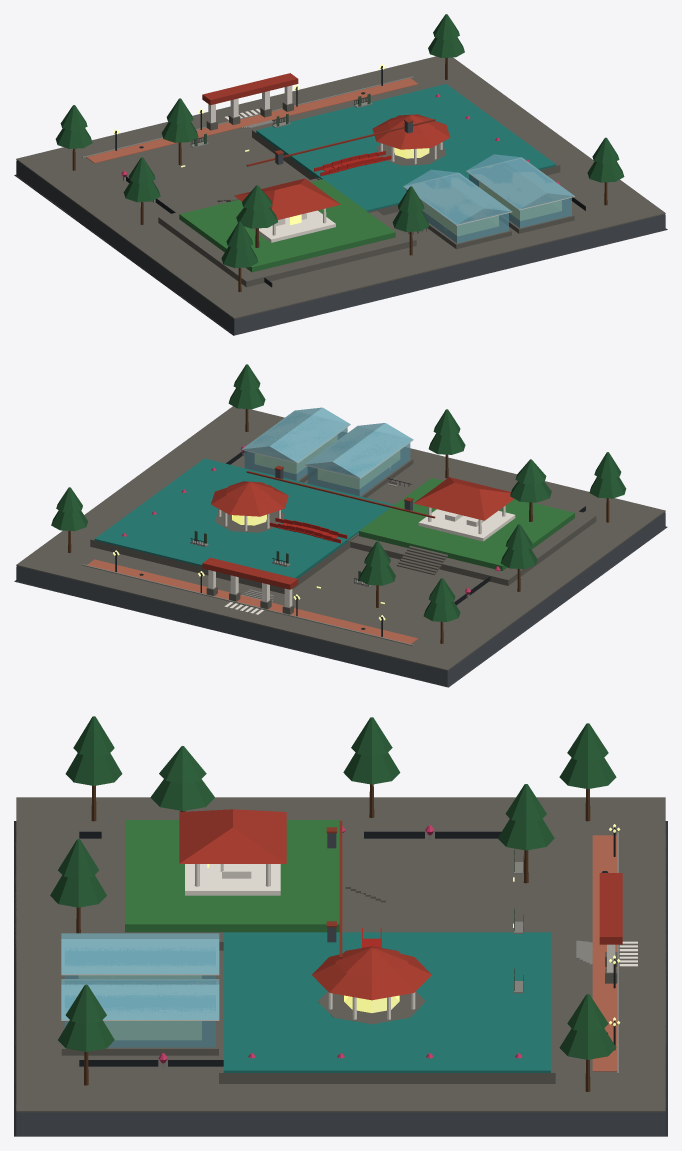
Rendered from lm_46_ho_than_tho_doi_thong_hai_mo.glb.
3 renders of one model, top to bottom at view 1: azimuth 30°, elevation 25°; view 2: azimuth 150°, elevation 25°; view 3: azimuth 270°, elevation 25°, orthographic. The views are drawn at different scales.
Parts seen in each view (by area): view 1: Foundation_Plinth_Trim, HoThanTho_Lake_Inlet_Water, Foundation_Skirt, DoiThongHaiMo_Century_Pines, ThanTho_Hill_Terraces_And_Steps, ThanTho_Hillside_Lawns, Biofresh_Glasshouse_Vault_2, Biofresh_Glasshouse_Vault_1, ThanTho_Crimson_Pavilion_Roofs, Biofresh_Strawberry_Glasshouses, Phase2_Interlocking_Brick_Sidewalk, DoiThongHaiMo_Memorial_And_Pillars (+9 smaller); view 2: Foundation_Plinth_Trim, HoThanTho_Lake_Inlet_Water, Foundation_Skirt, DoiThongHaiMo_Century_Pines, ThanTho_Hill_Terraces_And_Steps, ThanTho_Hillside_Lawns, ThanTho_Crimson_Pavilion_Roofs, Biofresh_Glasshouse_Vault_1, Biofresh_Glasshouse_Vault_2, Biofresh_Strawberry_Glasshouses, DoiThongHaiMo_Memorial_And_Pillars, DoiThongHaiMo_Memorial_Pavilion_Roof (+9 smaller); view 3: Foundation_Plinth_Trim, HoThanTho_Lake_Inlet_Water, DoiThongHaiMo_Century_Pines, Foundation_Skirt, ThanTho_Hillside_Lawns, ThanTho_Hill_Terraces_And_Steps, Biofresh_Glasshouse_Vault_1, ThanTho_Crimson_Pavilion_Roofs, DoiThongHaiMo_Memorial_Pavilion_Roof, Biofresh_Glasshouse_Vault_2, Biofresh_Glasshouse_Vault_1_Trim, DoiThongHaiMo_Memorial_And_Pillars (+8 smaller).
Boxes of the visible parts, <box> form: Foundation_Plinth_Trim: <box>16,56,665,319</box>; HoThanTho_Lake_Inlet_Water: <box>256,84,556,211</box>; Foundation_Skirt: <box>14,160,667,335</box>; DoiThongHaiMo_Century_Pines: <box>55,14,624,268</box>; ThanTho_Hill_Terraces_And_Steps: <box>158,102,574,287</box>; ThanTho_Hillside_Lawns: <box>179,179,395,272</box>; Biofresh_Glasshouse_Vault_2: <box>466,154,574,209</box>; Biofresh_Glasshouse_Vault_1: <box>403,169,511,224</box>; ThanTho_Crimson_Pavilion_Roofs: <box>202,73,450,149</box>; Biofresh_Strawberry_Glasshouses: <box>406,174,571,243</box>; Phase2_Interlocking_Brick_Sidewalk: <box>86,78,418,163</box>; DoiThongHaiMo_Memorial_And_Pillars: <box>208,85,442,242</box>; Foundation_Plinth_Trim: <box>16,406,665,670</box>; HoThanTho_Lake_Inlet_Water: <box>94,458,394,578</box>; Foundation_Skirt: <box>14,512,667,687</box>; DoiThongHaiMo_Century_Pines: <box>51,364,626,621</box>; ThanTho_Hill_Terraces_And_Steps: <box>90,457,596,614</box>; ThanTho_Hillside_Lawns: <box>359,478,574,570</box>; ThanTho_Crimson_Pavilion_Roofs: <box>202,481,298,589</box>; Biofresh_Glasshouse_Vault_1: <box>305,423,413,478</box>; Biofresh_Glasshouse_Vault_2: <box>242,407,350,462</box>; Biofresh_Strawberry_Glasshouses: <box>244,427,410,496</box>; DoiThongHaiMo_Memorial_And_Pillars: <box>208,505,515,607</box>; DoiThongHaiMo_Memorial_Pavilion_Roof: <box>413,477,514,520</box>; Foundation_Plinth_Trim: <box>16,797,665,1112</box>; HoThanTho_Lake_Inlet_Water: <box>223,932,550,1072</box>; DoiThongHaiMo_Century_Pines: <box>50,716,616,1059</box>; Foundation_Skirt: <box>14,821,667,1136</box>; ThanTho_Hillside_Lawns: <box>125,820,340,932</box>; ThanTho_Hill_Terraces_And_Steps: <box>61,818,617,1083</box>; Biofresh_Glasshouse_Vault_1: <box>61,933,219,974</box>; ThanTho_Crimson_Pavilion_Roofs: <box>312,873,622,1000</box>; DoiThongHaiMo_Memorial_Pavilion_Roof: <box>179,809,286,863</box>; Biofresh_Glasshouse_Vault_2: <box>61,979,219,1019</box>; Biofresh_Glasshouse_Vault_1_Trim: <box>61,934,219,975</box>; DoiThongHaiMo_Memorial_And_Pillars: <box>185,864,615,1019</box>.
Size of the model in its own units: 96.84 by 19 by 84.74.
